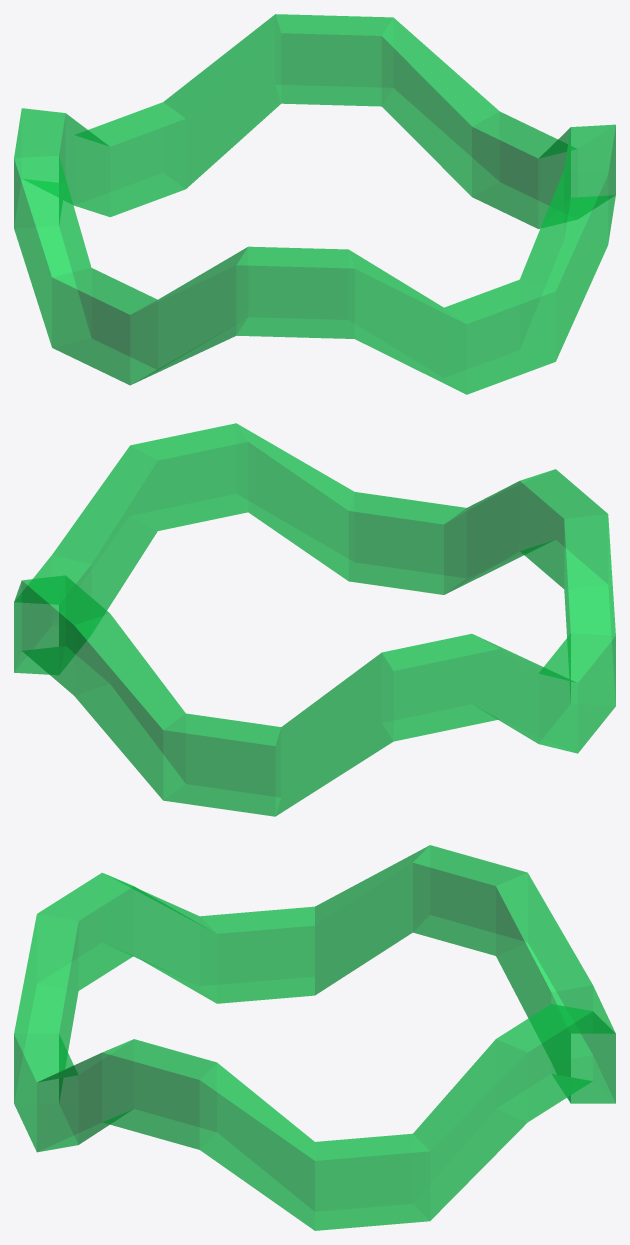
File: AuraCura.FBX
The picture shows the model from 3 angles, top to bottom: view 1: azimuth 30°, elevation 25°; view 2: azimuth 150°, elevation 25°; view 3: azimuth 270°, elevation 25°; orthographic projection.
Visible parts, largest first — view 1: AuraCura; view 2: AuraCura; view 3: AuraCura.
Boxes of the visible parts, x1,y1,x2,y2 form: AuraCura: (14,14,615,394); AuraCura: (14,423,615,816); AuraCura: (14,845,615,1230).
Size of the model in its own units: 63.34 by 16.39 by 63.34.
